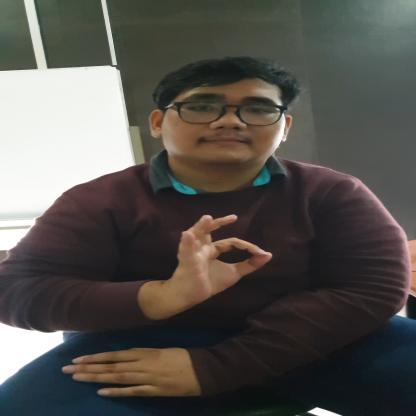O: (170, 213, 276, 300)
